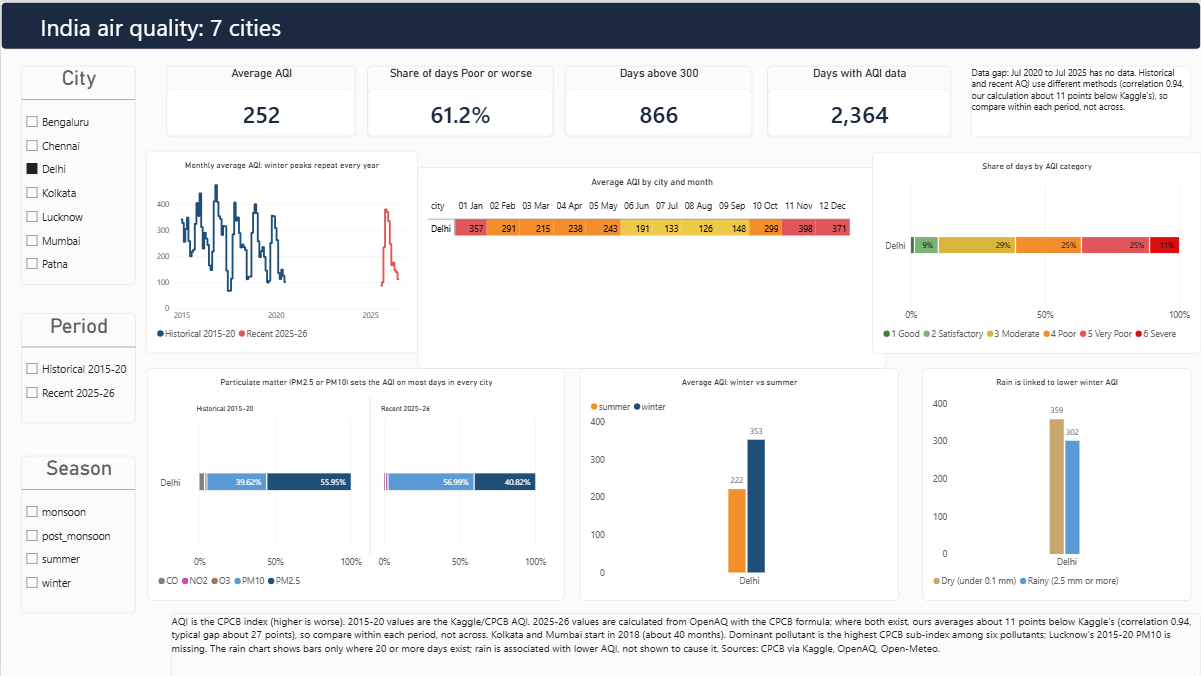

What the dashboard file says about the page in this screenshot:
{"tool":"powerbi","page":{"name":"Page 1","canvas":[1920,1080],"ordinal":0},"visuals":[{"type":"shape","box":[0,0,1920.1,76],"z":0},{"type":"textbox","box":[32,14,1298,62],"z":1000},{"type":"slicer","title":"City","fields":{"Values":["aqi_dashboard (2).city"]},"box":[32,102,184,350],"z":2000},{"type":"slicer","title":"Period","fields":{"Values":["aqi_dashboard (2).track"]},"box":[32,498,184,176],"z":3000},{"type":"slicer","title":"Season","fields":{"Values":["aqi_dashboard (2).season"]},"box":[32,726,184,252],"z":4000},{"type":"textbox","box":[1552,102,352,114],"z":5000},{"type":"cardVisual","title":"Average AQI","fields":{"Data":["aqi_dashboard.Average AQI"]},"box":[264,102,304,114],"z":6000},{"type":"cardVisual","title":"Share of days Poor or worse","fields":{"Data":["aqi_dashboard.Pct Poor or Worse"]},"box":[586,102,298,114],"z":7000},{"type":"cardVisual","title":"Days above 300","fields":{"Data":["aqi_dashboard.Days Above 300"]},"box":[902,102,300,114],"z":8000},{"type":"cardVisual","title":"Days with AQI data","fields":{"Data":["aqi_dashboard.Days With AQI"]},"box":[1226,102,294,114],"z":9000},{"type":"lineChart","title":"Monthly average AQI: winter peaks repeat every year","fields":{"Category":["aqi_dashboard.MonthStart"],"Series":["aqi_dashboard.track"],"Y":["aqi_dashboard.Average AQI"]},"box":[232,238,434,324],"z":10000},{"type":"pivotTable","title":"Average AQI by city and month","fields":{"Columns":["aqi_dashboard.month_label"],"Rows":["aqi_dashboard.city"],"Values":["aqi_dashboard.Average AQI"]},"box":[666,264,750,322],"z":11000},{"type":"barChart","fields":{"Category":["aqi_dashboard.city"],"Series":["aqi_dashboard.aqi_category"],"Y":["aqi_dashboard.Share of Days"]},"box":[1394,240,526,322],"z":12000},{"type":"hundredPercentStackedBarChart","title":"Particulate matter (PM2.5 or PM10) sets the AQI on most days in every city","fields":{"Category":["aqi_dashboard.city"],"Rows":["aqi_dashboard.track"],"Series":["aqi_dashboard.dominant_pollutant"],"Y":["aqi_dashboard.Dominant Share"]},"box":[234,586,668.3,371.7],"z":13000},{"type":"clusteredColumnChart","title":"Average AQI: winter vs summer","fields":{"Category":["aqi_dashboard.city"],"Series":["aqi_dashboard.season"],"Y":["aqi_dashboard.Average AQI"]},"box":[926,586,510,372],"z":14000},{"type":"clusteredColumnChart","title":"Rain is linked to lower winter AQI","fields":{"Category":["aqi_dashboard.city"],"Series":["aqi_dashboard.rain_group"],"Y":["aqi_dashboard.Avg AQI Min20"]},"box":[1474,586,430,372],"z":15000},{"type":"textbox","box":[272,978,1648,102],"z":16000}]}

Visuals, with their boxes in screenshot pixels (x1, y1, x2, y2), scaled from the page's 1920x1080 canvas onto the 1201x676 screenshot:
shape: <bbox>0, 0, 1200, 48</bbox>
textbox: <bbox>20, 9, 832, 48</bbox>
"City" slicer: <bbox>20, 64, 135, 283</bbox>
"Period" slicer: <bbox>20, 312, 135, 422</bbox>
"Season" slicer: <bbox>20, 454, 135, 612</bbox>
textbox: <bbox>971, 64, 1191, 135</bbox>
"Average AQI" cardVisual: <bbox>165, 64, 355, 135</bbox>
"Share of days Poor or worse" cardVisual: <bbox>367, 64, 553, 135</bbox>
"Days above 300" cardVisual: <bbox>564, 64, 752, 135</bbox>
"Days with AQI data" cardVisual: <bbox>767, 64, 951, 135</bbox>
"Monthly average AQI: winter peaks repeat every year" lineChart: <bbox>145, 149, 417, 352</bbox>
"Average AQI by city and month" pivotTable: <bbox>417, 165, 886, 367</bbox>
barChart - aqi_dashboard.city x aqi_dashboard.aqi_category: <bbox>872, 150, 1200, 352</bbox>
"Particulate matter (PM2.5 or PM10) sets the AQI on most days in every city" hundredPercentStackedBarChart: <bbox>146, 367, 564, 599</bbox>
"Average AQI: winter vs summer" clusteredColumnChart: <bbox>579, 367, 898, 600</bbox>
"Rain is linked to lower winter AQI" clusteredColumnChart: <bbox>922, 367, 1191, 600</bbox>
textbox: <bbox>170, 612, 1200, 675</bbox>
